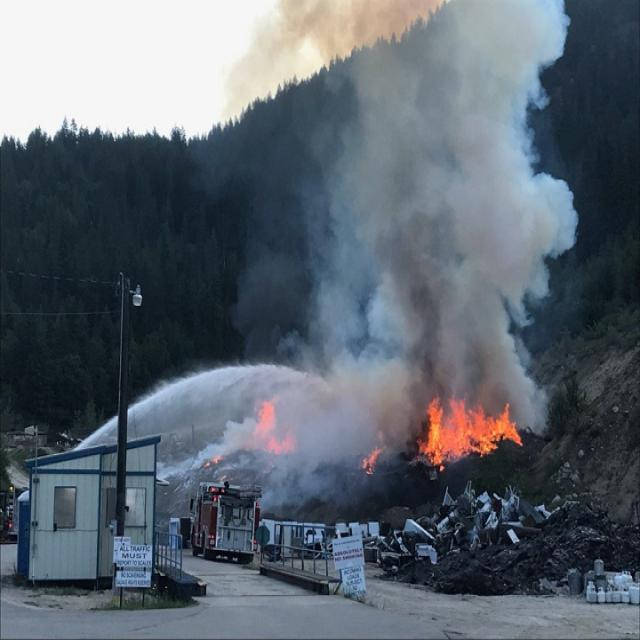Fire: (422, 390, 514, 466)
Smoke: (258, 0, 587, 453)
